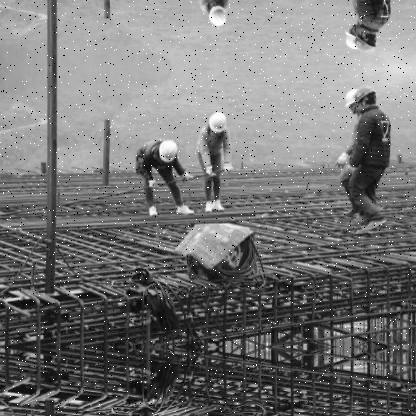Helmet: (338, 19, 365, 55), (353, 85, 381, 116), (204, 110, 230, 140), (353, 30, 383, 55), (156, 142, 178, 168), (208, 3, 226, 32), (342, 87, 361, 114)
